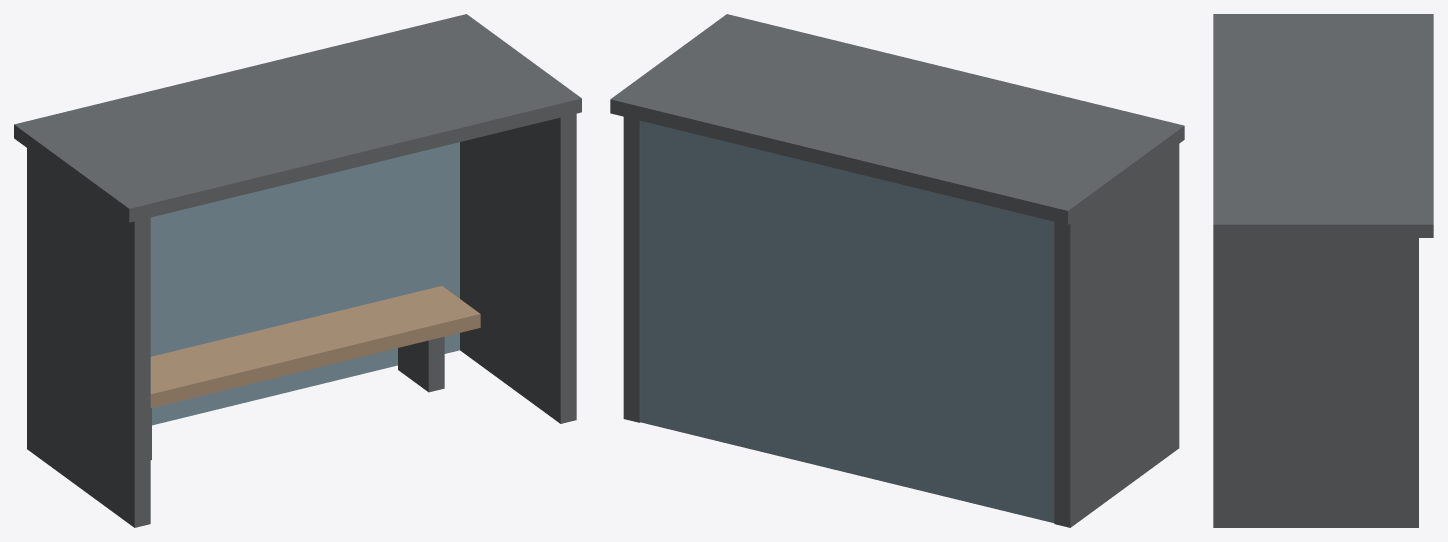
File: BusShelter.glb
The picture shows the model from 3 angles, left to right: view 1: azimuth 30°, elevation 25°; view 2: azimuth 150°, elevation 25°; view 3: azimuth 270°, elevation 25°; orthographic projection. The views are drawn at different scales.
Parts seen in each view (by area): view 1: BusShelter; view 2: BusShelter; view 3: BusShelter.
Part boxes in pixels (left/top/right/bottom): BusShelter: left=14, top=14, right=581, bottom=527; BusShelter: left=610, top=14, right=1184, bottom=527; BusShelter: left=1213, top=14, right=1433, bottom=527.
Bounding box in the file's own units: 3.4 × 2.3 × 1.5.
